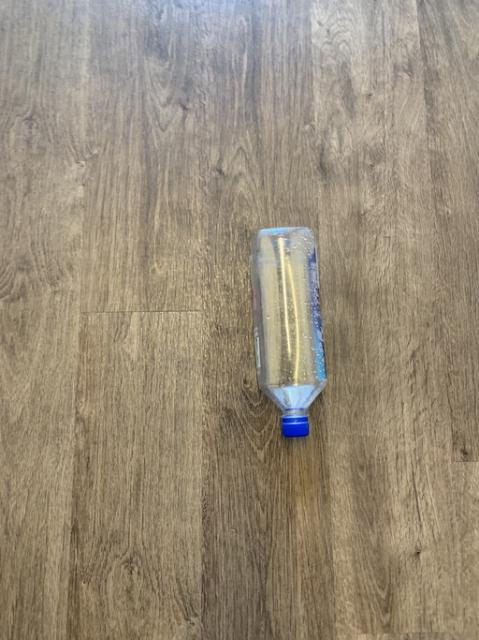plastic: (251, 226, 325, 435)
